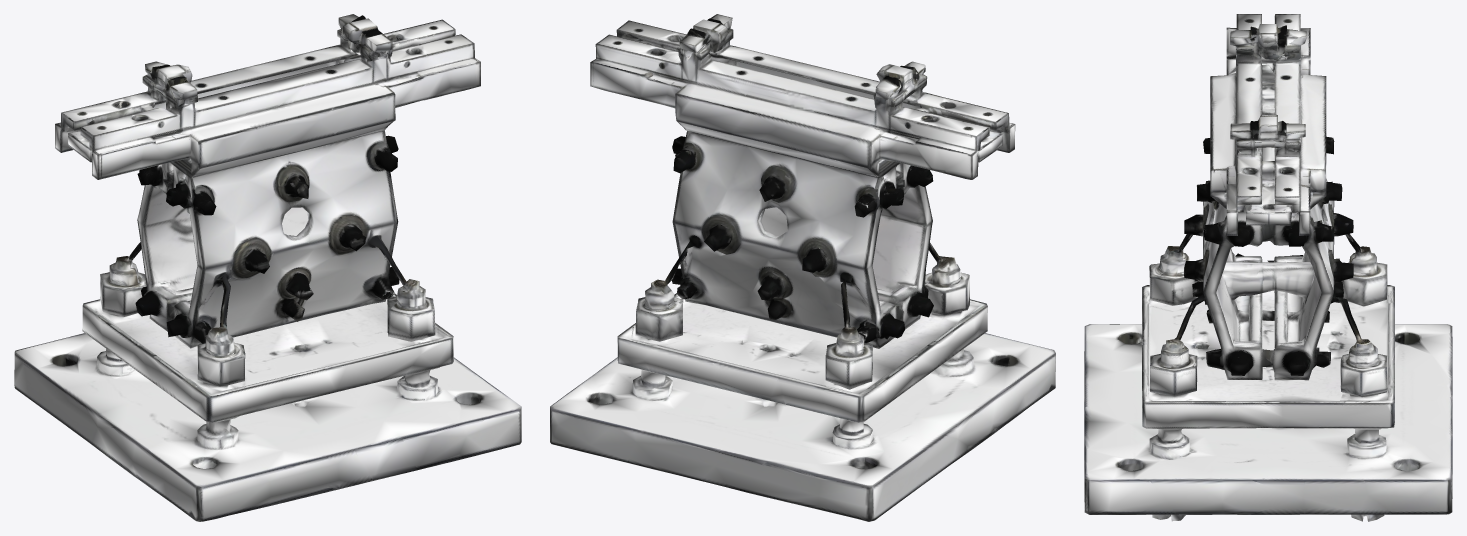
The model's file is fail.glb.
The picture shows the model from 3 angles, left to right: view 1: azimuth 30°, elevation 25°; view 2: azimuth 150°, elevation 25°; view 3: azimuth 270°, elevation 25°; orthographic projection.
Size of the model in its own units: 2 by 1.98 by 1.69.
Materials: 1 (1 with a texture image).
